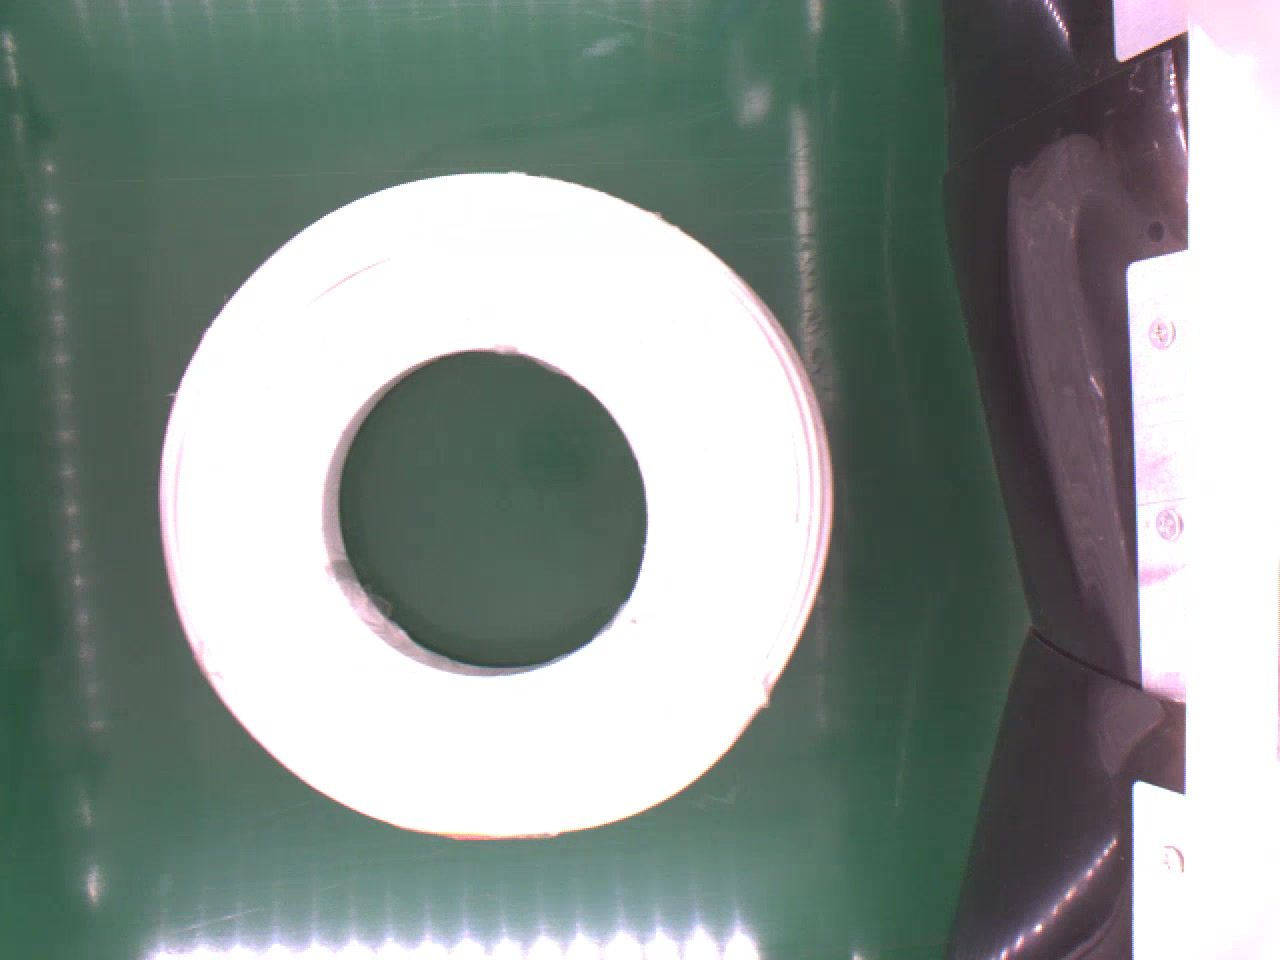white: (155, 165, 837, 837)
